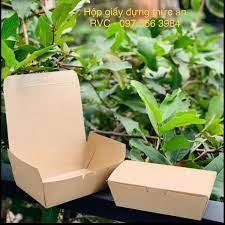box: (4, 71, 126, 209), (108, 160, 217, 220)
